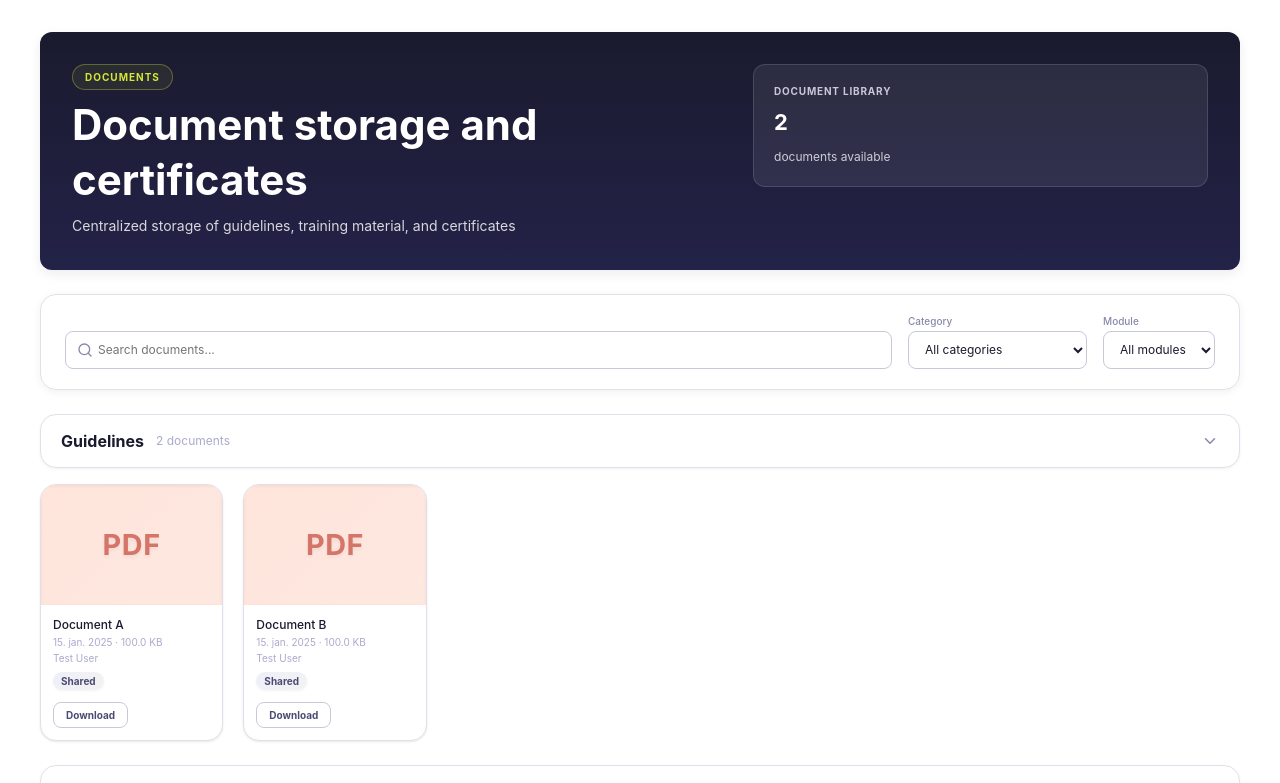
Test: DocumentsView › filtering › filters documents by original filename
Type "alcohol" into the search field with class "search-input". click: x=478, y=350
box: [65,331,892,369]
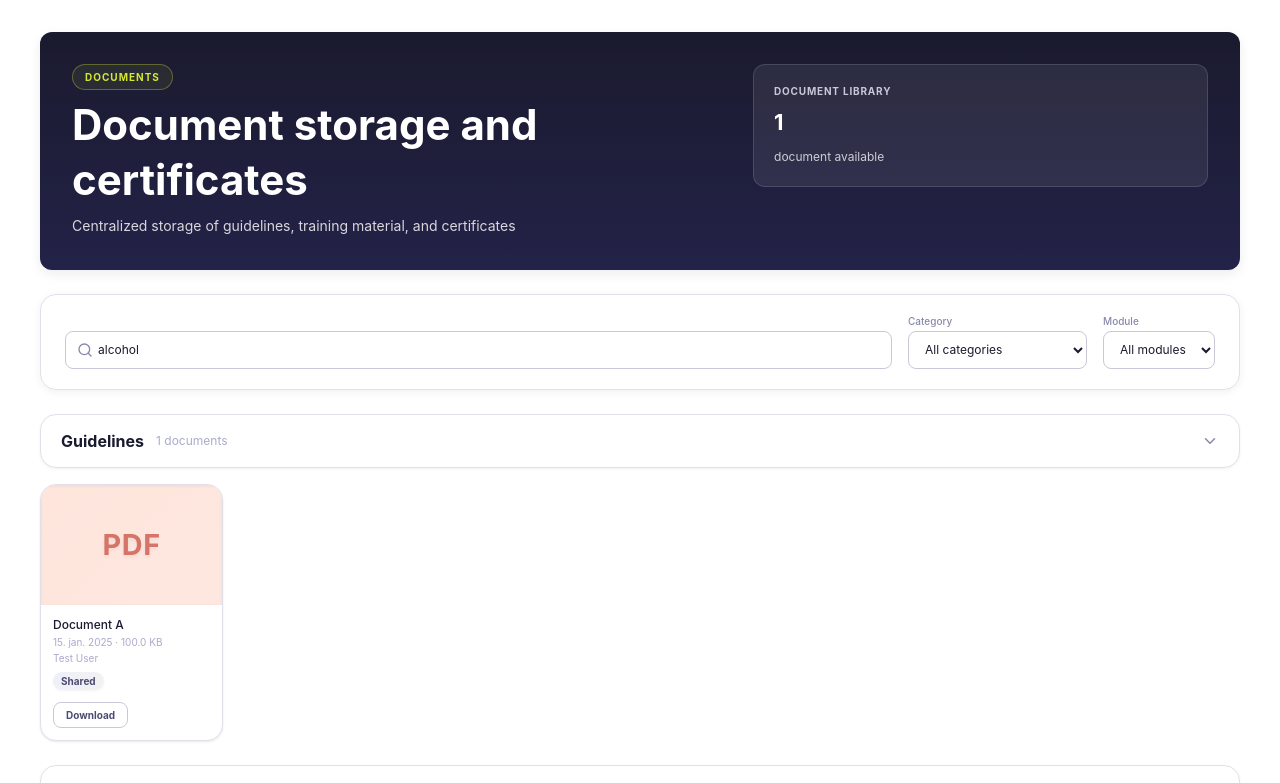
Expected: the text "document a" is shown, [774,149,884,164]
Expected: the text "Document B" is gone
